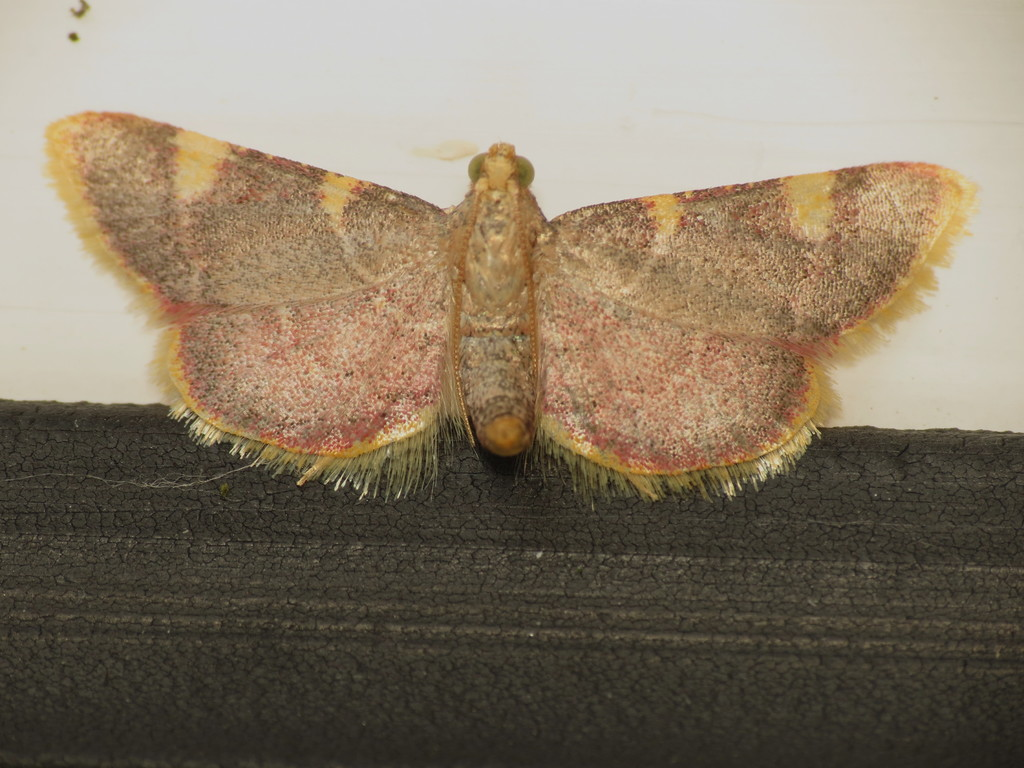Butterfly: (26, 89, 990, 556)
